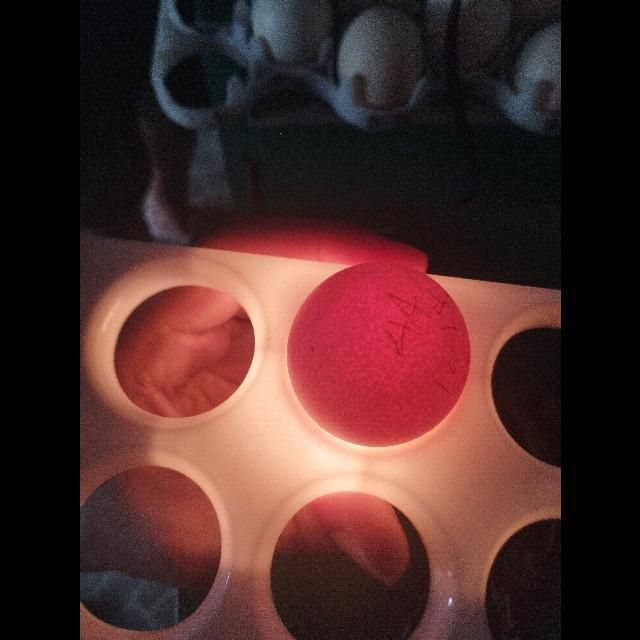A - Good: (284, 256, 476, 454)
